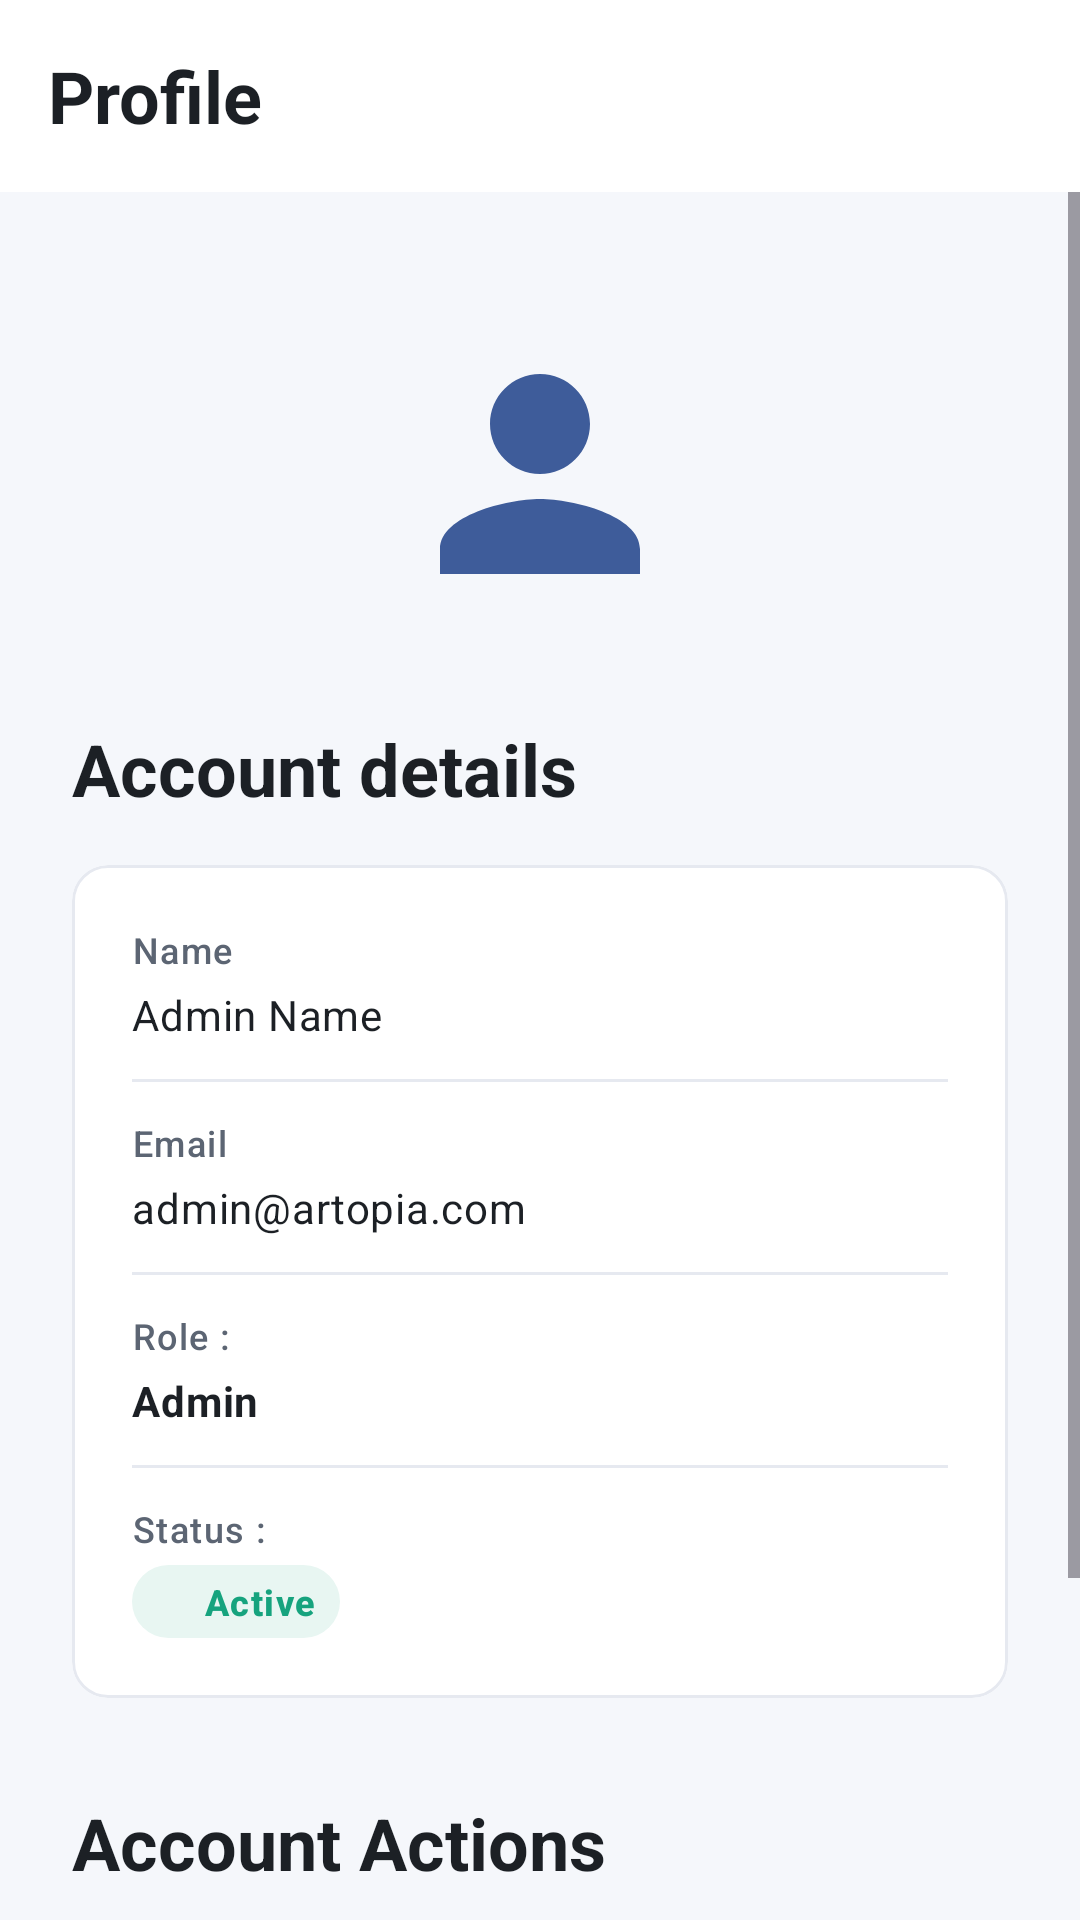

Named icons in this screenshot (1080 x 1920) and their bounding boxes, box(x1, y1, x2, y2):
Profile: box(440, 374, 640, 574)
